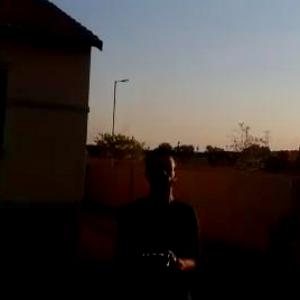follow: (107, 142, 210, 299)
